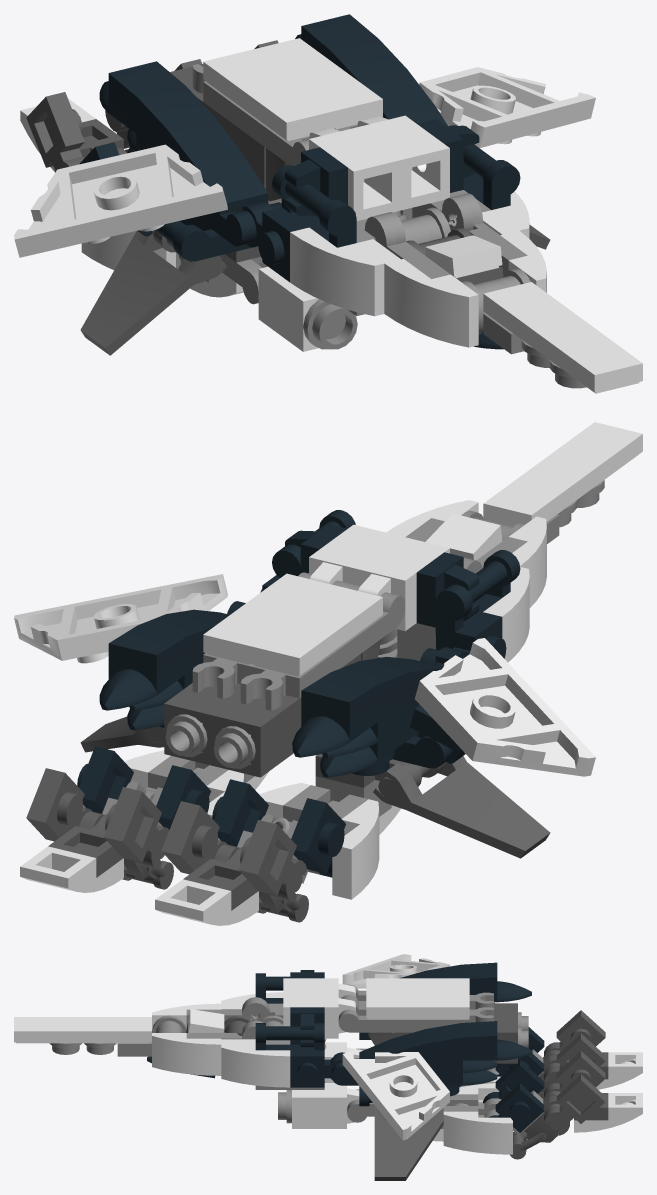
File: mvf-25-kusanagi.dae
3 renders of one model, top to bottom at view 1: azimuth 30°, elevation 25°; view 2: azimuth 150°, elevation 25°; view 3: azimuth 270°, elevation 25°, orthographic. The views are drawn at different scales.
Bounding box in the file's own units: 241 × 364 × 89.27.
